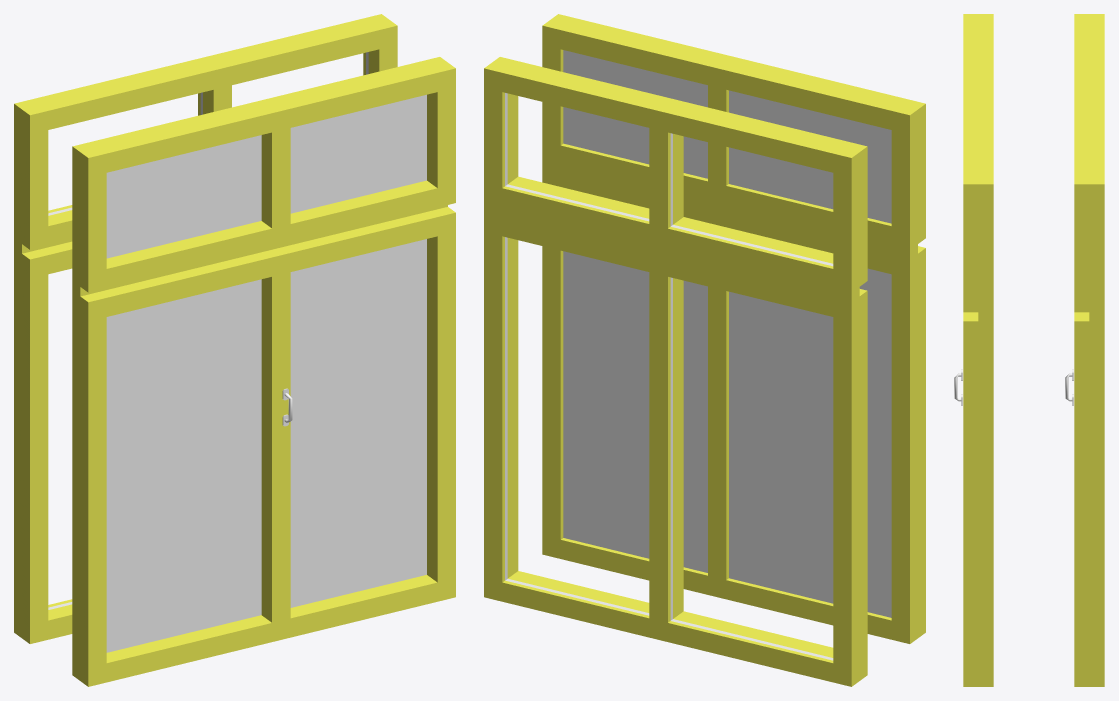
The model's file is mir.fbx.
The picture shows the model from 3 angles, left to right: view 1: azimuth 30°, elevation 25°; view 2: azimuth 150°, elevation 25°; view 3: azimuth 270°, elevation 25°; orthographic projection. The views are drawn at different scales.
Parts seen in each view (by area): view 1: Окружность.001; view 2: Окружность.001; view 3: Окружность.001.
Boxes of the visible parts, x1,y1,x2,y2 form: Окружность.001: (14,14,455,686); Окружность.001: (484,14,925,686); Окружность.001: (954,14,1104,686).
Size of the model in its own units: 200 by 275 by 74.4.
